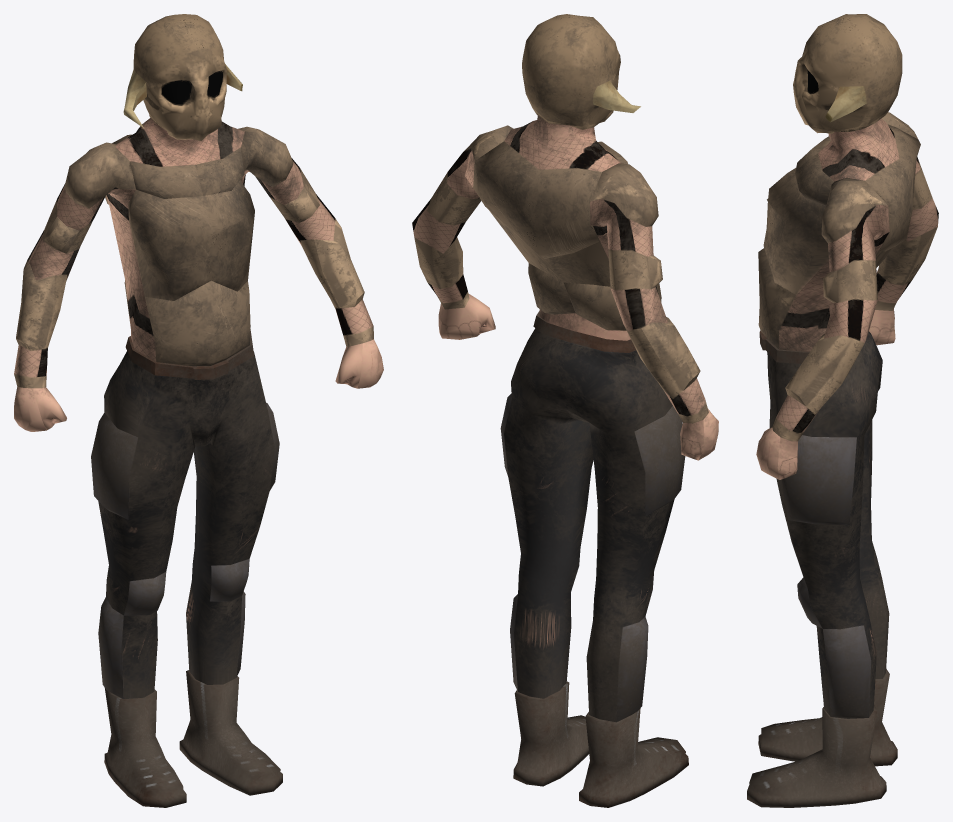
The model's file is Anim_ataque_d1_npc1.0012.obj.
3 views of the same model, side by side, from view 1: azimuth 30°, elevation 25°; view 2: azimuth 150°, elevation 25°; view 3: azimuth 270°, elevation 25° (orthographic). The views are drawn at different scales.
Visible parts, largest first — view 1: NPC2; view 2: NPC2; view 3: NPC2.
Part boxes in pixels (bbox=[...]): NPC2: bbox=[14, 14, 383, 807]; NPC2: bbox=[412, 14, 718, 807]; NPC2: bbox=[747, 14, 938, 807].
Size of the model in its own units: 4.27 by 9.63 by 2.2.
